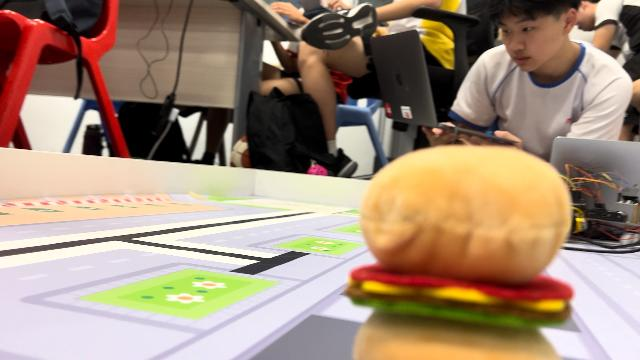burger: (340, 142, 574, 360)
